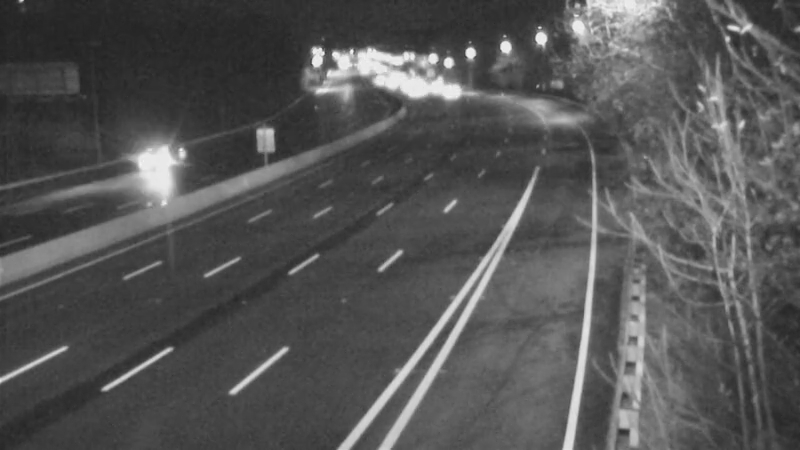vehicle: (123, 117, 203, 197)
